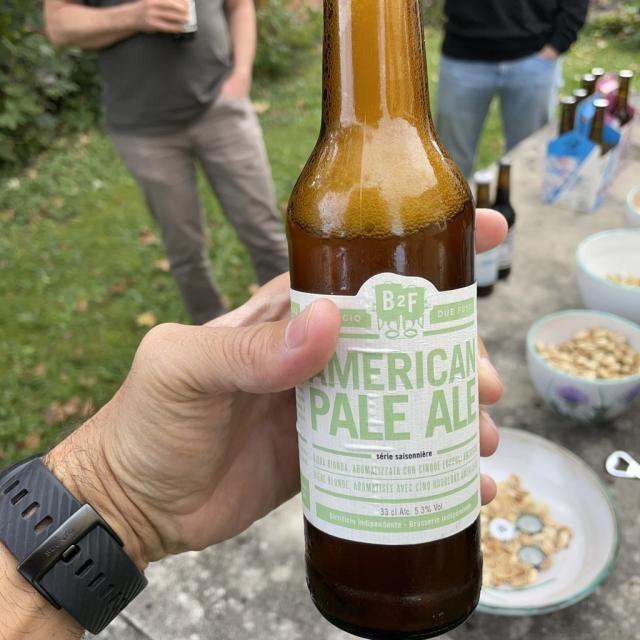beer: (292, 0, 483, 624)
